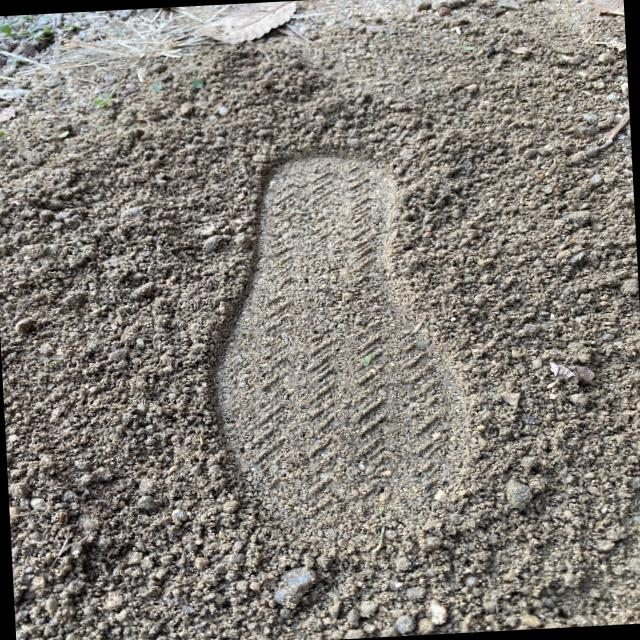human_foot_print: (162, 94, 510, 586)
